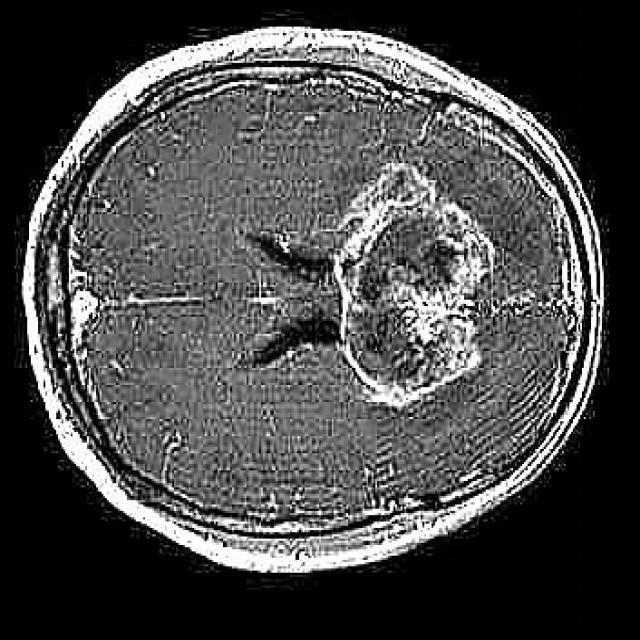tumor: (321, 162, 497, 407)
